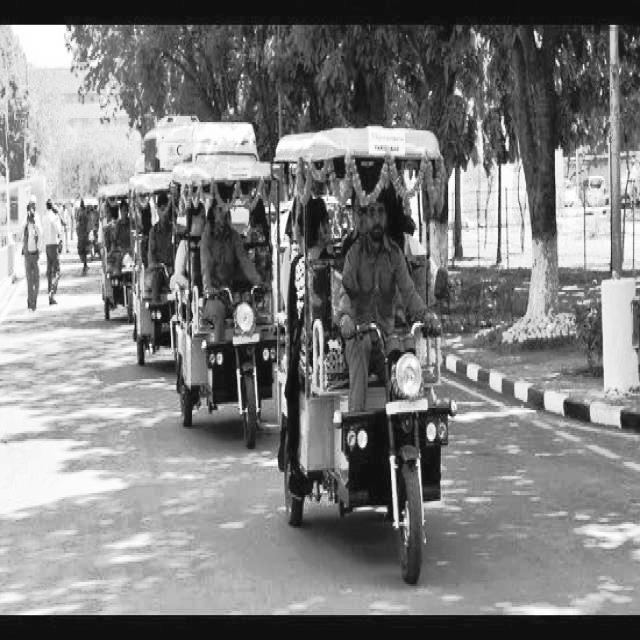Toto: (268, 114, 456, 588), (164, 154, 278, 458)
